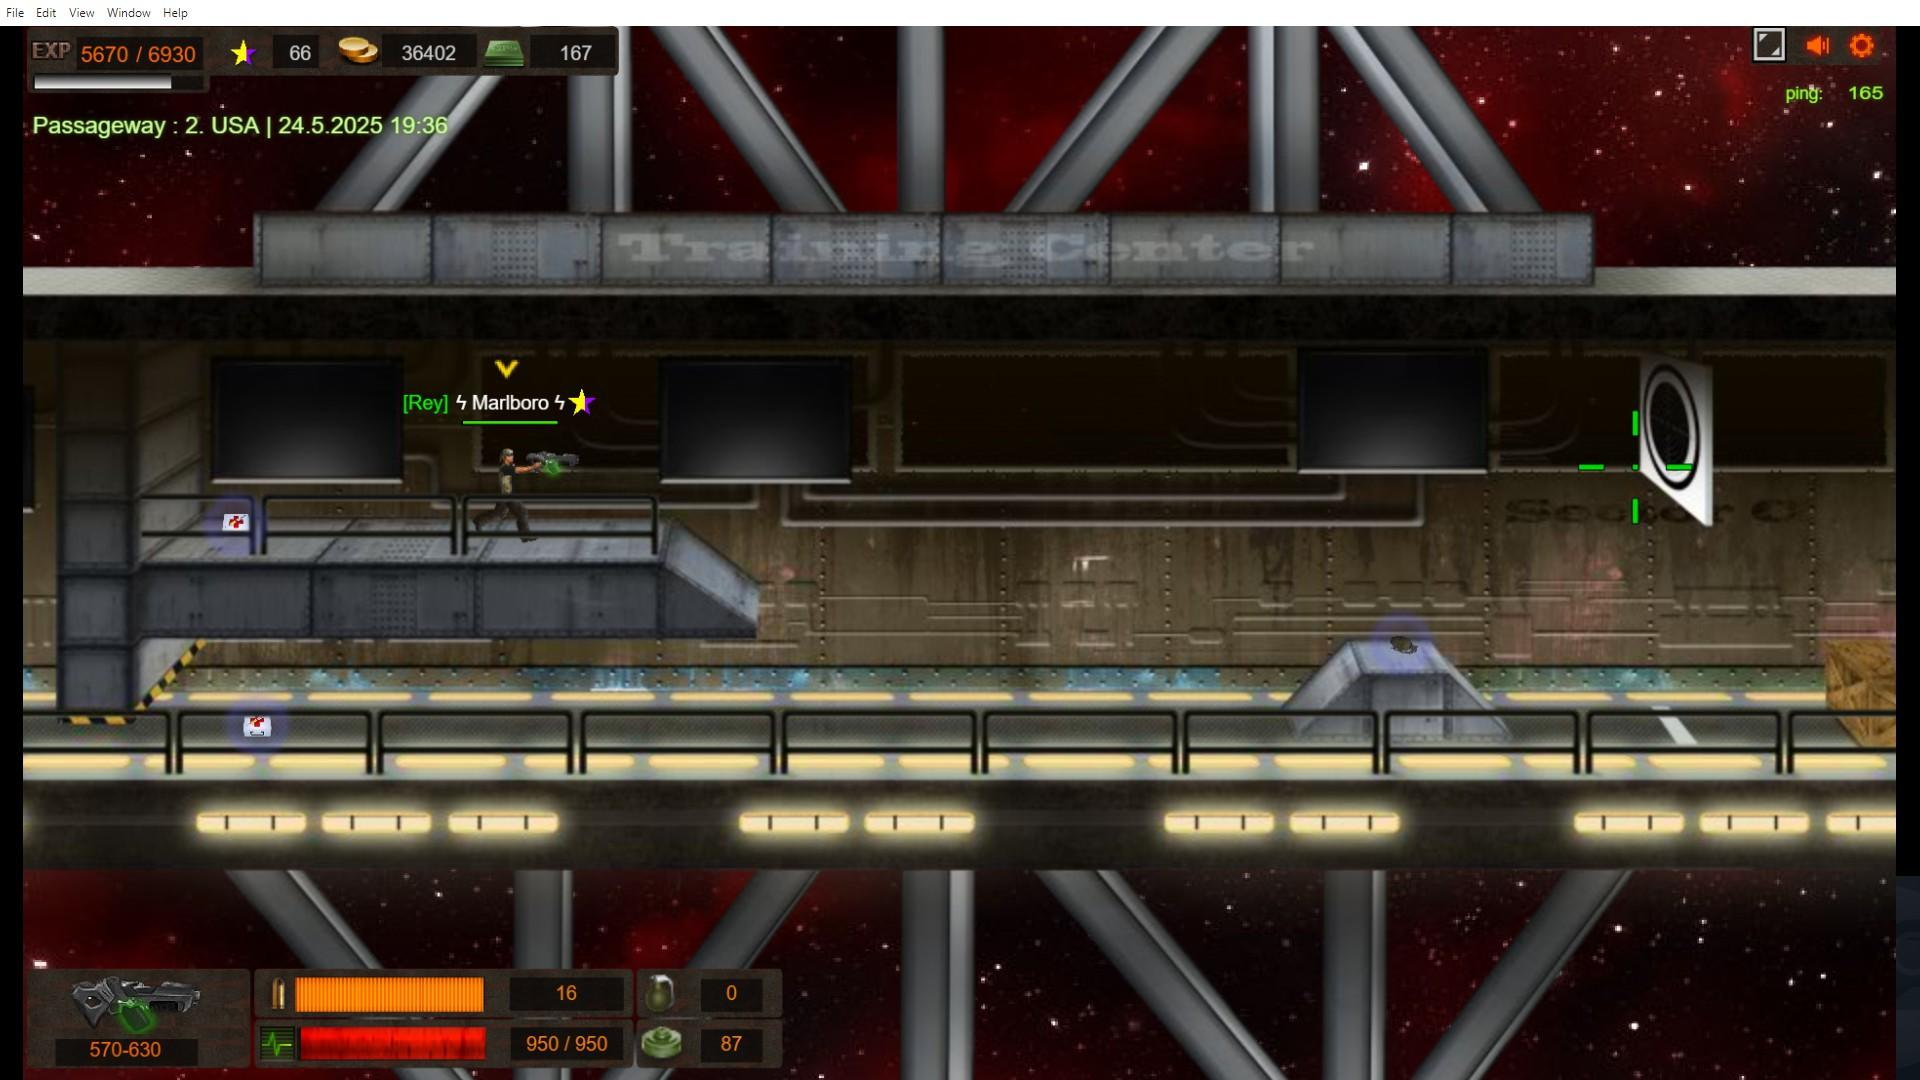enemy: (495, 444, 521, 539)
